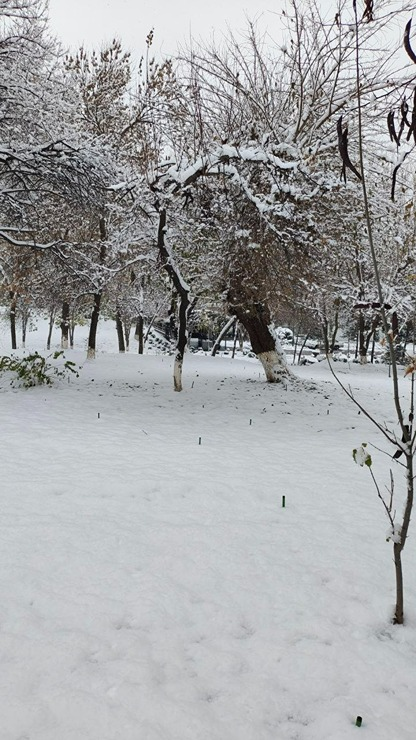tree: (198, 0, 346, 381), (102, 135, 222, 400)
